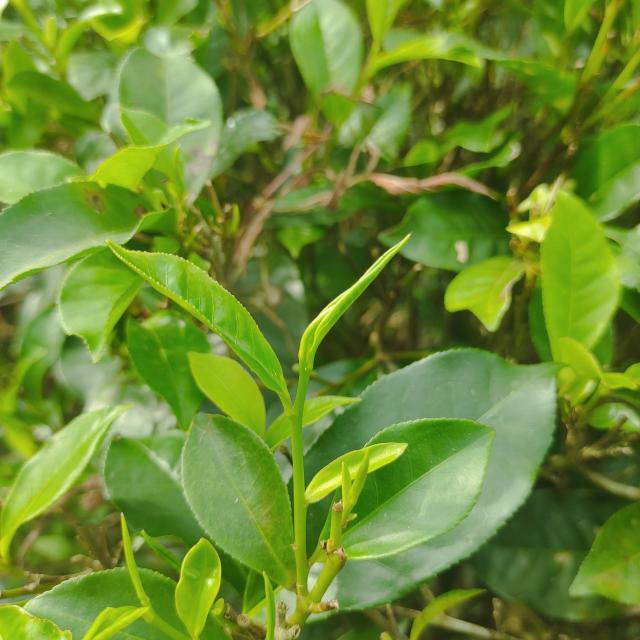unopened_leaf: (294, 228, 418, 378), (116, 503, 156, 612), (136, 520, 184, 571), (346, 441, 378, 509), (256, 567, 282, 640), (336, 456, 354, 522)
